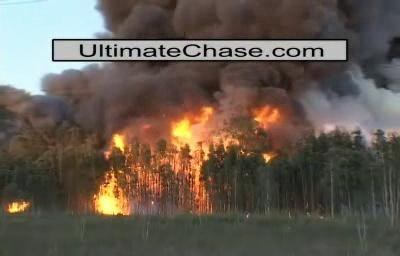fire: (97, 116, 279, 219)
smoke: (94, 2, 398, 104)
